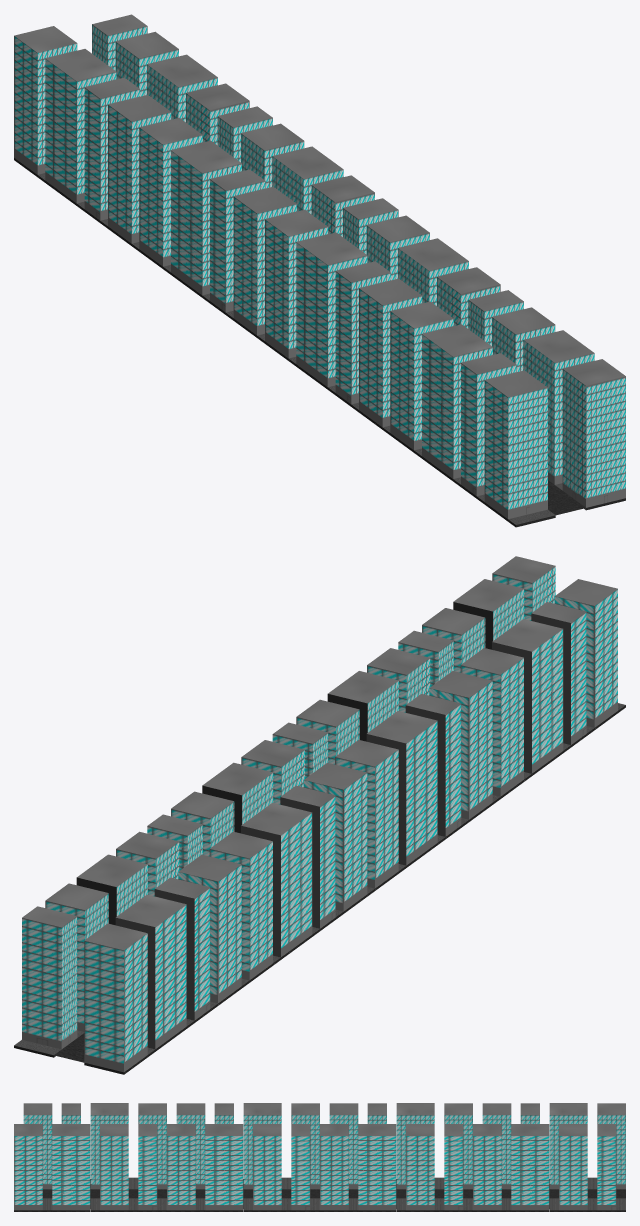
File: scycrapers.fbx
3 renders of one model, top to bottom at view 1: azimuth 30°, elevation 25°; view 2: azimuth 150°, elevation 25°; view 3: azimuth 270°, elevation 25°, orthographic. The views are drawn at different scales.
Parts seen in each view (by area): view 1: Cylinder.001; view 2: Cylinder.001; view 3: Cylinder.001.
Boxes of the visible parts, x1=… form: Cylinder.001: x1=14, y1=14, x2=625, y2=527; Cylinder.001: x1=14, y1=556, x2=625, y2=1074; Cylinder.001: x1=14, y1=1103, x2=625, y2=1211.
Size of the model in its own units: 5063 by 5479 by 40000.
